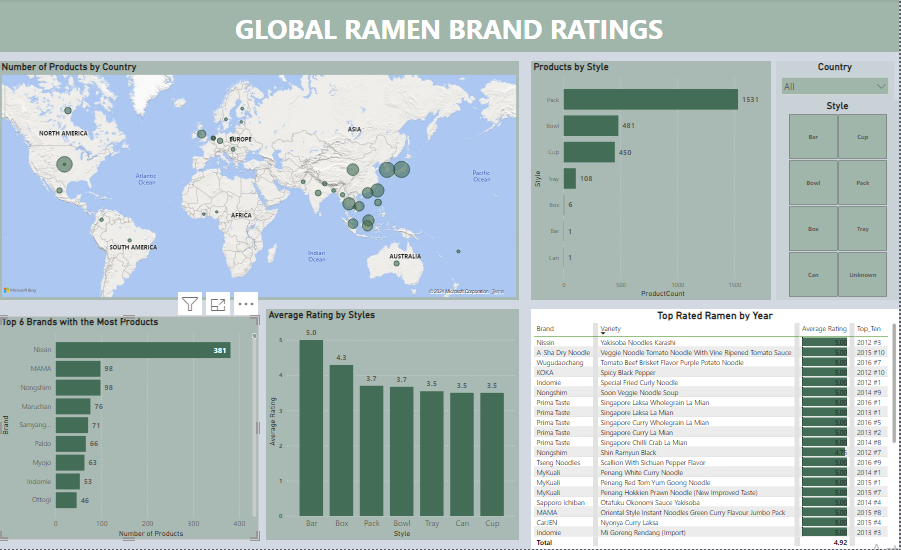

The page's visual inventory and layout, read from the dashboard file:
{"tool":"powerbi","page":{"name":"Page 1","canvas":[1800,1100],"ordinal":0},"visuals":[{"type":"barChart","title":"Products by Style","fields":{"Category":["Ramenreviews.Style"],"Y":["Ramenreviews.ProductCount"]},"box":[1320.9,169.8,479.1,402.3],"z":0},{"type":"map","title":"Number of Products by Country","fields":{"Category":["Ramenreviews.Country"],"Size":["Ramenreviews.ProductCount"]},"box":[0,116.7,730.6,530.6],"z":1000},{"type":"columnChart","title":"Average Rating by Styles","fields":{"Category":["Ramenreviews.Style"],"Y":["Avg(Ramenreviews.Stars)"]},"box":[537.2,720.9,460.5,360.5],"z":2000},{"type":"tableEx","title":"Top Rated Ramen by Year","fields":{"Values":["Ramenreviews.Brand","Ramenreviews.Variety","Avg(Ramenreviews.Stars)","Ramenreviews.Top_Ten"]},"box":[1015,617.5,785,482.5],"z":3000},{"type":"barChart","title":"Top 6 Brands with the Most Products","fields":{"Category":["Ramenreviews.Brand"],"Y":["Count(Ramenreviews.Review_No)"]},"box":[0,720.9,518.6,360.5],"z":5000},{"type":"scatterChart","title":"Average Rating and Products by Style","fields":{"Y":["Avg(Ramenreviews.Stars)"],"X":["Ramenreviews.Style"],"Size":["Ramenreviews.ProductCount"]},"box":[751.2,169.8,553.5,402.3],"z":6000},{"type":"slicer","title":"Country","fields":{"Values":["Ramenreviews.Country"]},"box":[1500.4,0,299.2,127.6],"z":7000},{"type":"card","title":"Total No. of Products","fields":{"Values":["Ramenreviews.ProductCount"]},"box":[873.4,0,297,127.6],"z":8000},{"type":"slicer","title":"Style","fields":{"Values":["Ramenreviews.Style"]},"box":[1170.4,0,330,127.6],"z":8001},{"type":"textbox","box":[0,0,730.4,117.7],"z":8002}]}

Visuals, with their boxes in screenshot pixels (x1, y1, x2, y2), scaled from the page's 1800x1100 canvas onto the 901x550 screenshot:
"Products by Style" barChart: (left=661, top=85, right=900, bottom=286)
"Number of Products by Country" map: (left=0, top=58, right=366, bottom=324)
"Average Rating by Styles" columnChart: (left=269, top=360, right=499, bottom=541)
"Top Rated Ramen by Year" tableEx: (left=508, top=309, right=900, bottom=549)
"Top 6 Brands with the Most Products" barChart: (left=0, top=360, right=260, bottom=541)
"Average Rating and Products by Style" scatterChart: (left=376, top=85, right=653, bottom=286)
"Country" slicer: (left=751, top=0, right=900, bottom=64)
"Total No. of Products" card: (left=437, top=0, right=586, bottom=64)
"Style" slicer: (left=586, top=0, right=751, bottom=64)
textbox: (left=0, top=0, right=366, bottom=59)
